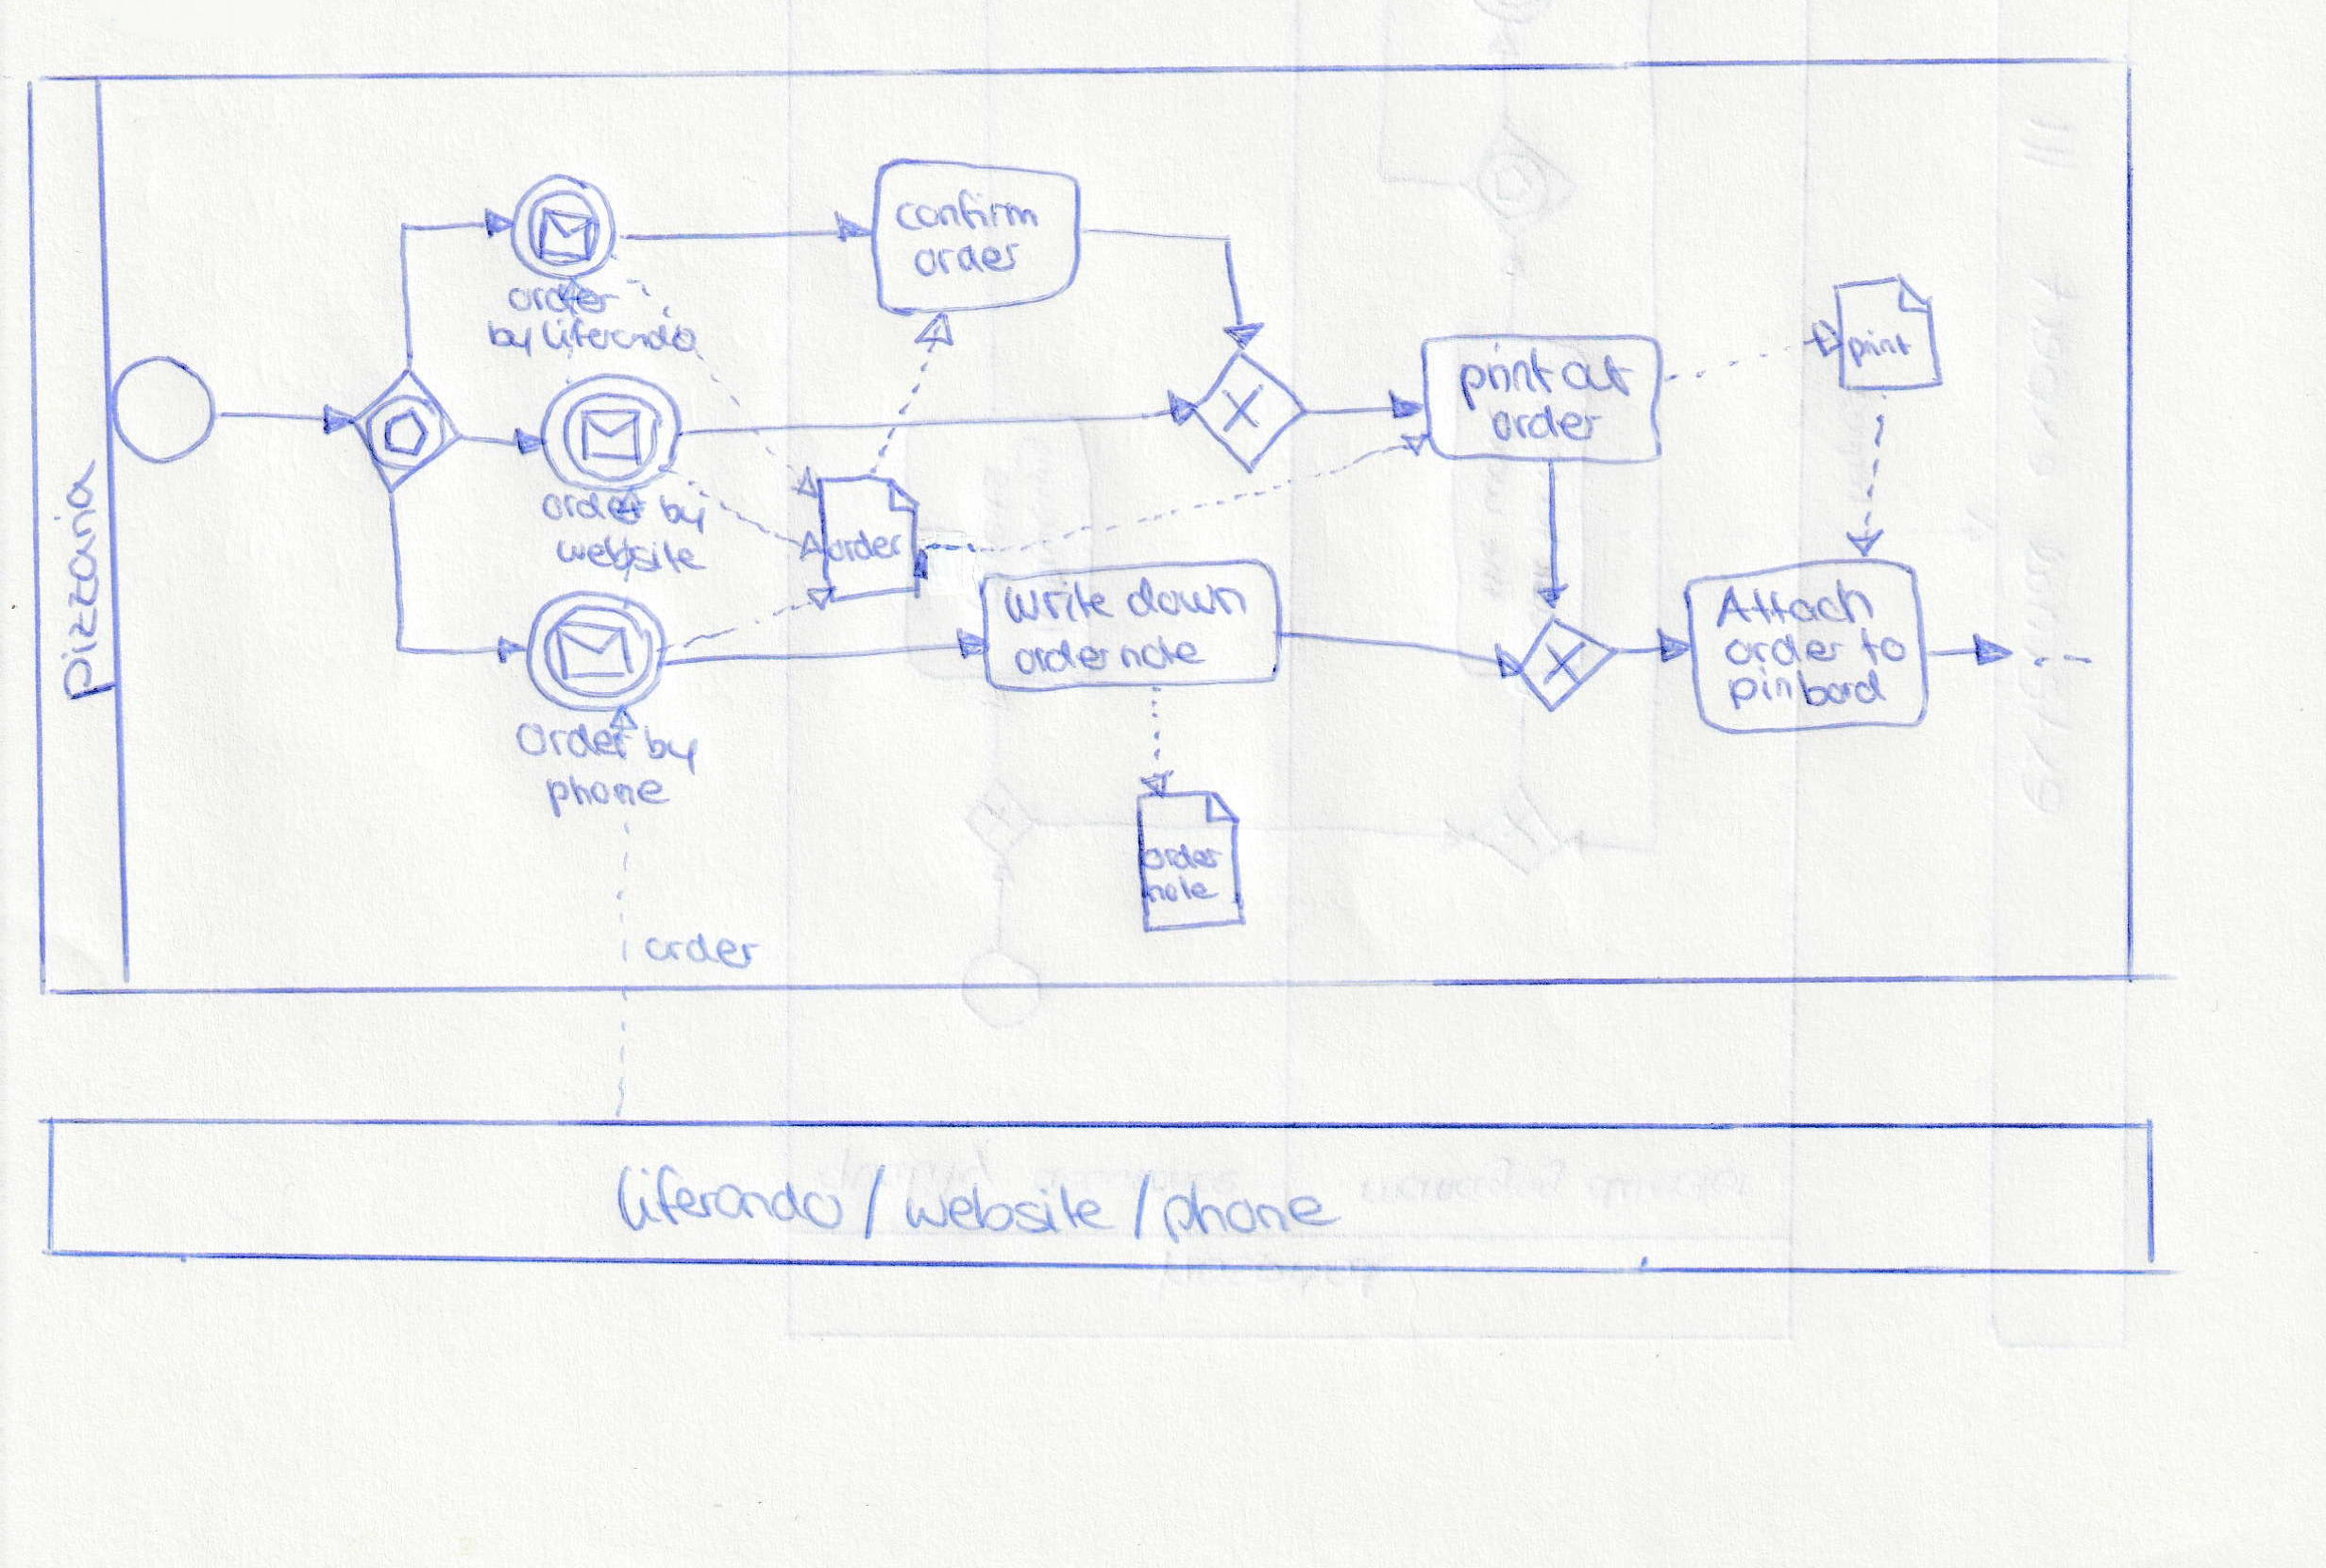/: (856, 1162, 893, 1237), (1129, 1169, 1153, 1241)
Attach: (1712, 581, 1878, 630)
by: (639, 723, 698, 773), (655, 488, 712, 535), (483, 315, 537, 359)
confirm: (891, 185, 1041, 236)
down: (1120, 574, 1251, 621)
liferando: (613, 1160, 847, 1235)
liferendo: (536, 313, 704, 353)
note: (1113, 632, 1204, 670), (1145, 873, 1215, 906)
order: (509, 719, 637, 765), (639, 929, 761, 971), (1720, 628, 1848, 668), (1489, 404, 1605, 446), (910, 238, 1022, 280), (537, 486, 651, 525), (506, 280, 621, 317), (1013, 639, 1113, 679), (1136, 836, 1225, 871), (824, 528, 905, 563)
out: (1558, 350, 1635, 395)
phone: (1157, 1174, 1335, 1246), (539, 772, 674, 815)
pinbord: (1726, 667, 1890, 712)
pizzaria: (51, 462, 117, 702)
print: (1454, 341, 1552, 411), (1843, 324, 1911, 369)
to: (1855, 626, 1906, 667)
website: (898, 1183, 1117, 1237), (553, 535, 704, 581)
write: (999, 577, 1113, 626)
